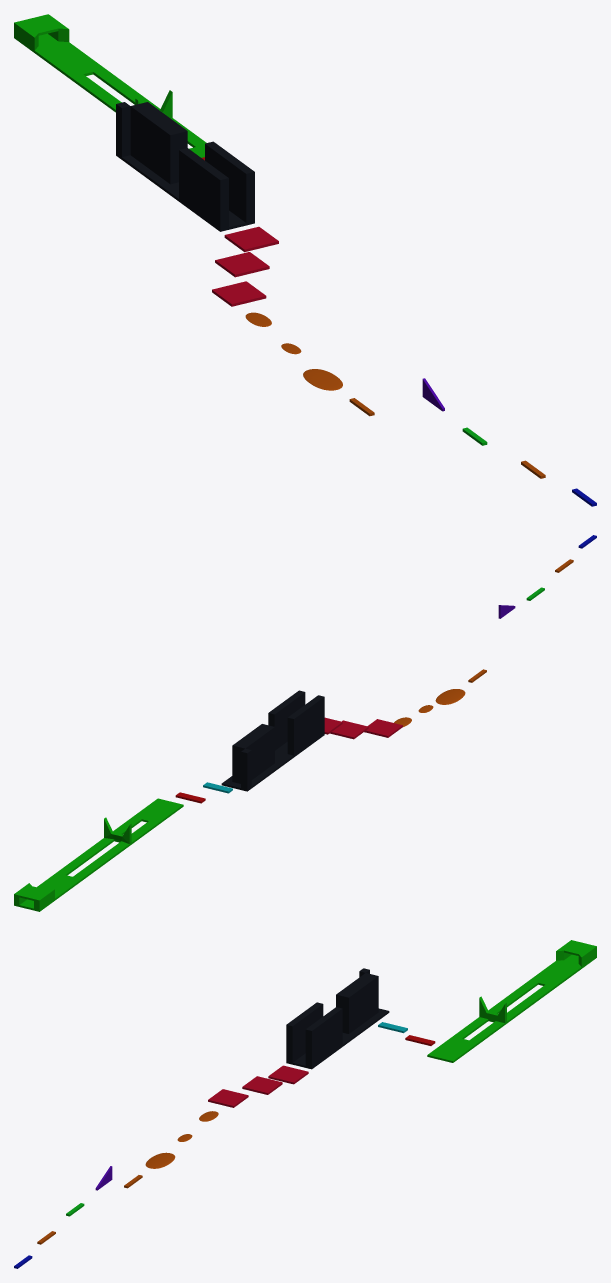
3 views of the same model, one above another, from view 1: azimuth 30°, elevation 25°; view 2: azimuth 150°, elevation 25°; view 3: azimuth 330°, elevation 25° (orthographic). The views are drawn at different scales.
Parts seen in each view (by area): view 1: Cube.011, Cube.014, Cube.008_Cube.009, Cube.009_Cube.008, Cube.010; view 2: Cube.011, Cube.014; view 3: Cube.011, Cube.014, Cube.010, Cube.008_Cube.009, Cube.009_Cube.008.
Part boxes in pixels (<box>): Cube.011: <box>116,102,254,231</box>; Cube.014: <box>14,14,206,157</box>; Cube.008_Cube.009: <box>212,281,266,306</box>; Cube.009_Cube.008: <box>215,252,269,277</box>; Cube.010: <box>224,226,278,252</box>; Cube.011: <box>221,690,324,791</box>; Cube.014: <box>14,798,183,911</box>; Cube.011: <box>286,968,389,1069</box>; Cube.014: <box>427,940,596,1062</box>; Cube.010: <box>268,1065,308,1084</box>; Cube.008_Cube.009: <box>208,1089,248,1107</box>; Cube.009_Cube.008: <box>242,1076,282,1094</box>.
Bounding box in the file's own units: 69.02 × 37 × 466.
